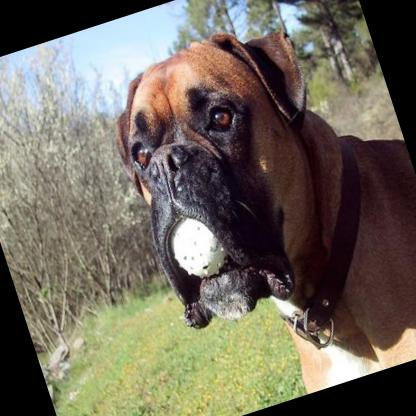boxer: (93, 0, 416, 416)
